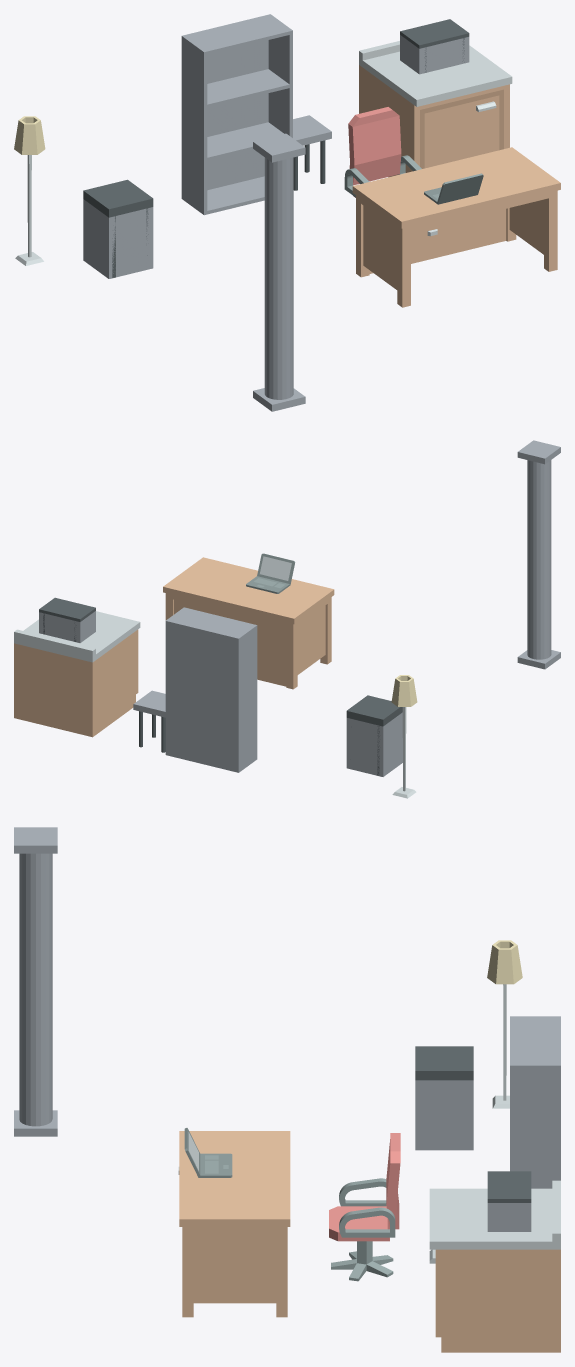
3 renders of one model, top to bottom at view 1: azimuth 30°, elevation 25°; view 2: azimuth 150°, elevation 25°; view 3: azimuth 270°, elevation 25°, orthographic. The views are drawn at different scales.
Parts seen in each view (by area): view 1: desk_blue__desk(Clone), cabinet_blue__kitchenCabinet(Clone), column_cyan__column_cyan shaft, shelf_orange__shelf_orange back, cabinet_blue__door, shelf_orange__shelf_orange side_l, bin_gray__bin_gray shell, deskchair_black__chair, shelf_orange__shelf_orange side_r, shelf_orange__shelf_orange board3, shelf_orange__shelf_orange board2, case_brown__case_brown shell (+10 smaller); view 2: cabinet_blue__kitchenCabinet(Clone), desk_blue__desk(Clone), shelf_orange__shelf_orange back, column_cyan__column_cyan shaft, shelf_orange__shelf_orange side_l, bin_gray__bin_gray shell, laptop_gray__laptop(Clone), case_brown__case_brown shell, shelf_orange__shelf_orange board3, lamp_white__lampRoundFloor(Clone), bin_gray__bin_gray lid, case_brown__case_brown lid (+4 smaller); view 3: cabinet_blue__kitchenCabinet(Clone), desk_blue__desk(Clone), column_cyan__column_cyan shaft, shelf_orange__shelf_orange side_r, bin_gray__bin_gray shell, deskchair_black__chair, shelf_orange__shelf_orange board3, bin_gray__bin_gray lid, lamp_white__lampRoundFloor(Clone), case_brown__case_brown lid, case_brown__case_brown shell, deskchair_black__chairDesk(Clone) (+3 smaller).
Boxes of the visible parts, x1,y1,x2,y2 form: desk_blue__desk(Clone): [352, 147, 560, 307]; cabinet_blue__kitchenCabinet(Clone): [359, 41, 512, 177]; column_cyan__column_cyan shaft: [264, 157, 293, 399]; shelf_orange__shelf_orange back: [185, 15, 268, 190]; cabinet_blue__door: [420, 89, 503, 168]; shelf_orange__shelf_orange side_l: [181, 35, 207, 215]; bin_gray__bin_gray shell: [83, 199, 153, 278]; deskchair_black__chair: [344, 107, 421, 197]; shelf_orange__shelf_orange side_r: [268, 14, 292, 137]; shelf_orange__shelf_orange board3: [187, 16, 289, 54]; shelf_orange__shelf_orange board2: [207, 69, 289, 107]; case_brown__case_brown shell: [400, 35, 469, 74]; cabinet_blue__kitchenCabinet(Clone): [14, 611, 140, 737]; desk_blue__desk(Clone): [163, 557, 334, 689]; shelf_orange__shelf_orange back: [168, 621, 236, 771]; column_cyan__column_cyan shaft: [527, 460, 551, 659]; shelf_orange__shelf_orange side_l: [236, 624, 257, 772]; bin_gray__bin_gray shell: [346, 712, 402, 776]; laptop_gray__laptop(Clone): [246, 553, 295, 593]; case_brown__case_brown shell: [39, 611, 95, 642]; shelf_orange__shelf_orange board3: [169, 608, 253, 636]; lamp_white__lampRoundFloor(Clone): [391, 675, 417, 798]; bin_gray__bin_gray lid: [346, 695, 402, 726]; case_brown__case_brown lid: [39, 597, 95, 621]; cabinet_blue__kitchenCabinet(Clone): [429, 1180, 560, 1352]; desk_blue__desk(Clone): [179, 1131, 290, 1317]; column_cyan__column_cyan shaft: [19, 853, 52, 1126]; shelf_orange__shelf_orange side_r: [510, 1064, 560, 1188]; bin_gray__bin_gray shell: [415, 1080, 473, 1150]; deskchair_black__chair: [329, 1133, 400, 1241]; shelf_orange__shelf_orange board3: [510, 1018, 557, 1063]; bin_gray__bin_gray lid: [415, 1046, 473, 1080]; lamp_white__lampRoundFloor(Clone): [487, 940, 522, 1108]; case_brown__case_brown lid: [487, 1171, 531, 1202]; case_brown__case_brown shell: [487, 1203, 531, 1231]; deskchair_black__chairDesk(Clone): [331, 1241, 393, 1281].
Bounding box in the file's own units: 4.15 × 2.2 × 3.75.
